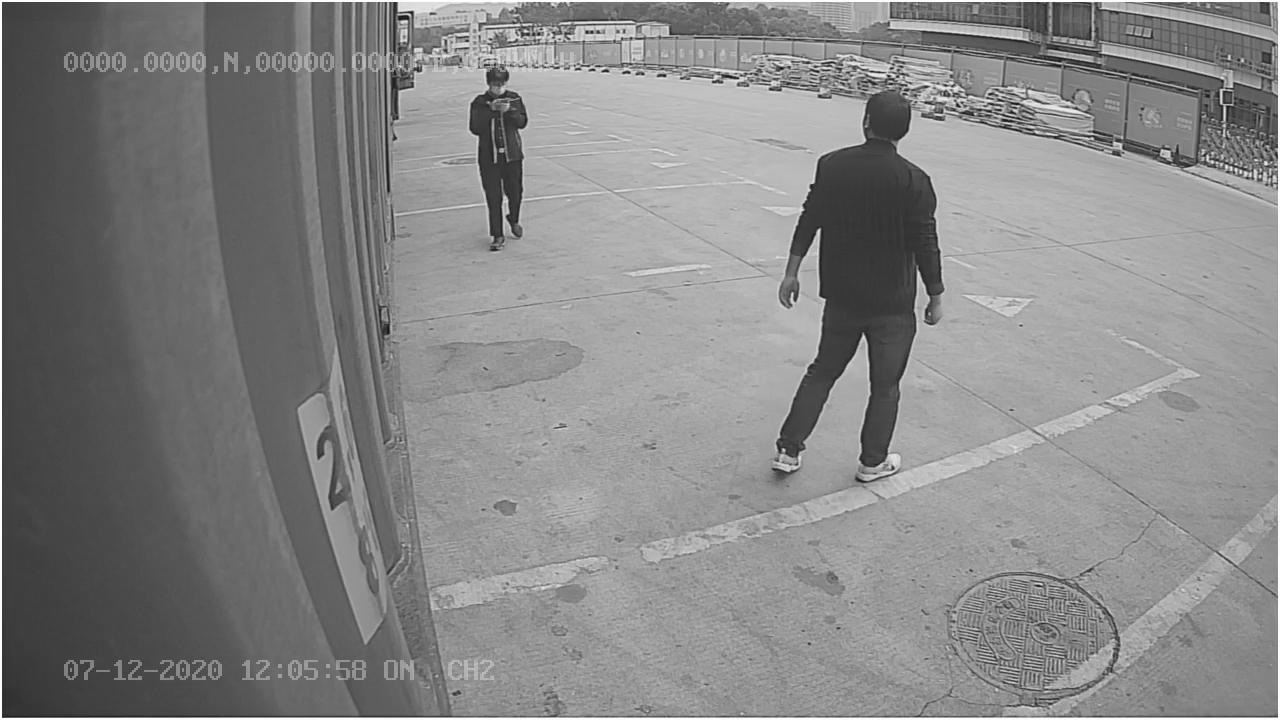person: (765, 84, 947, 484)
